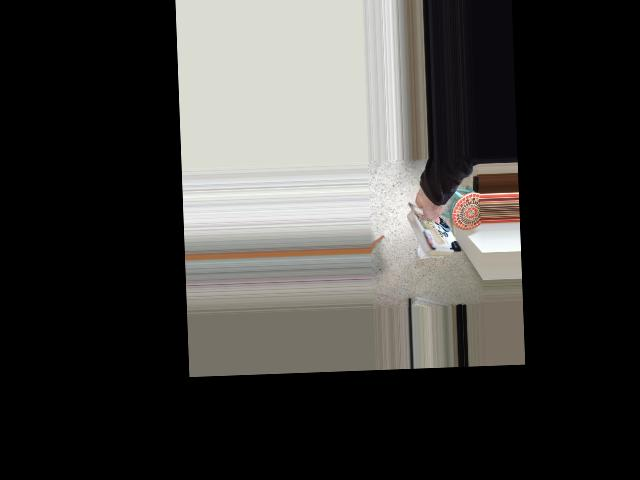cheese: (399, 187, 471, 260)
